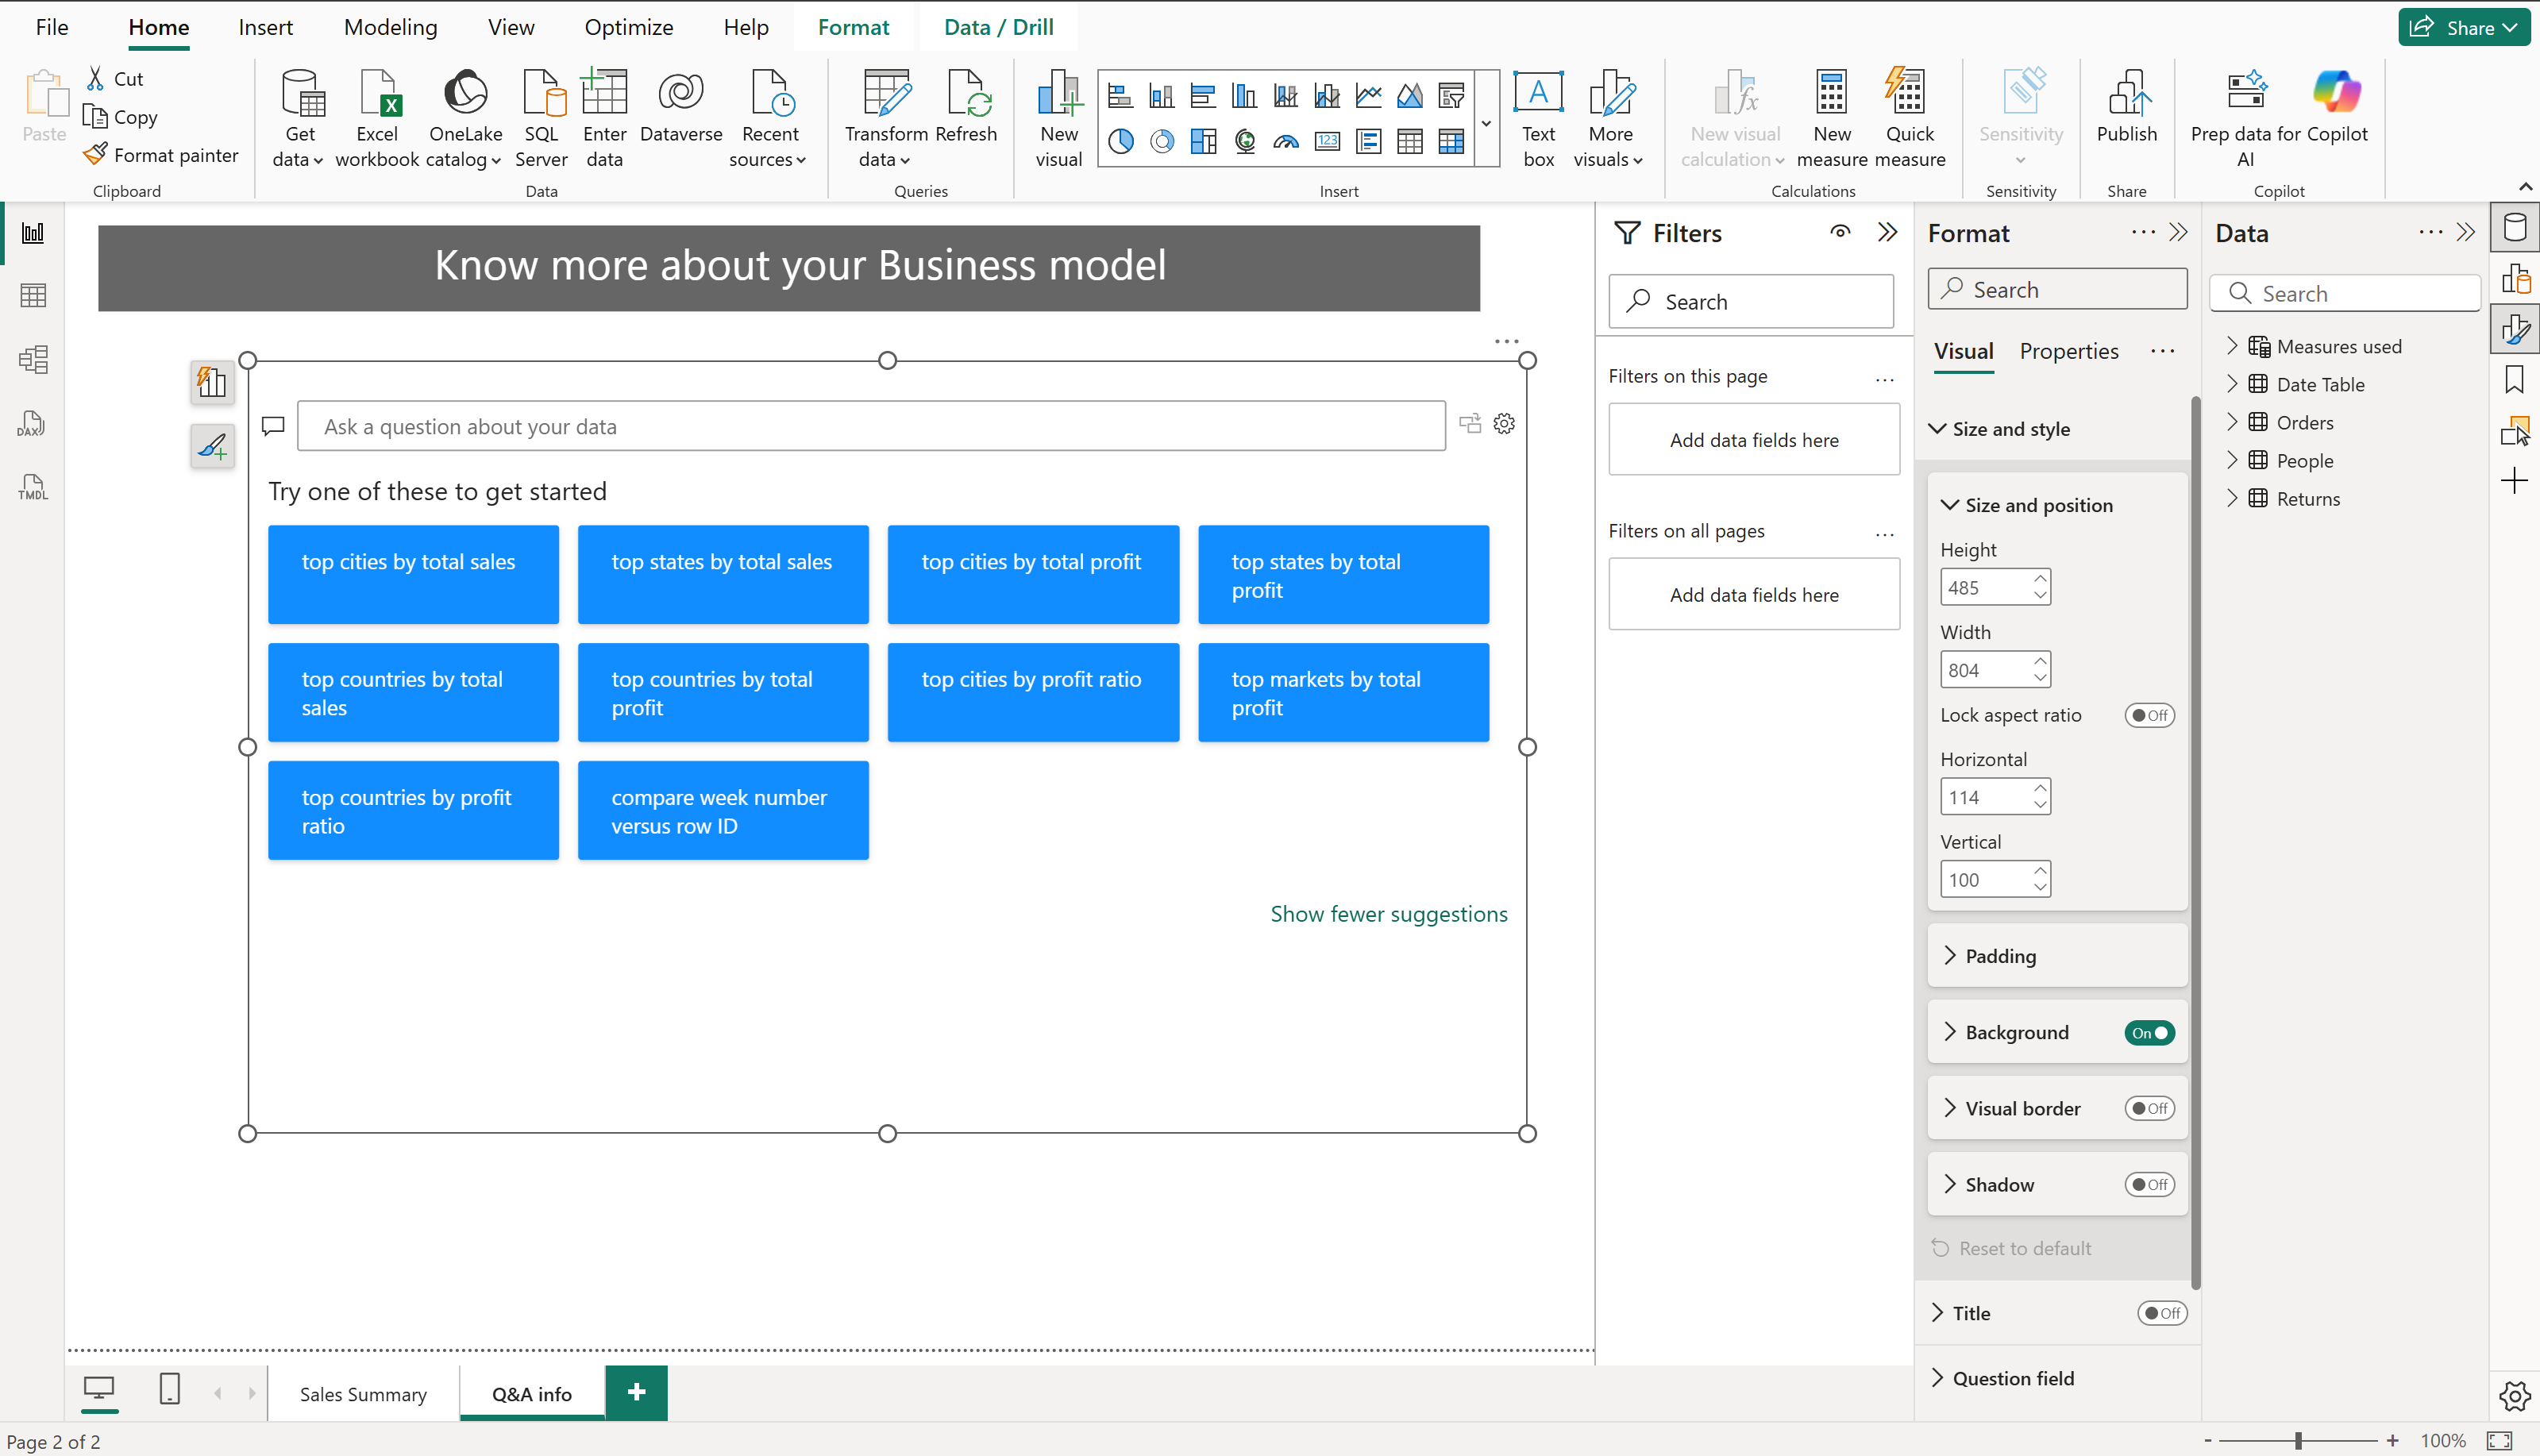

What the dashboard file says about the page in this screenshot:
{"tool":"powerbi","page":{"name":"Page 1","canvas":[960,720],"ordinal":1},"visuals":[{"type":"textbox","box":[51.2,24.3,1212.6,51.2],"z":0},{"type":"qnaVisual","box":[114.2,100,804.4,485.1],"z":1000}]}

Visuals, with their boxes on the page's 960x720 design canvas (x1, y1, x2, y2). These are canvas units, not pixel positions in the 2540x1456 screenshot, which may show the page scaled, cropped or inside an application window:
textbox: {"x1": 51, "y1": 24, "x2": 1264, "y2": 76}
qnaVisual: {"x1": 114, "y1": 100, "x2": 919, "y2": 585}
